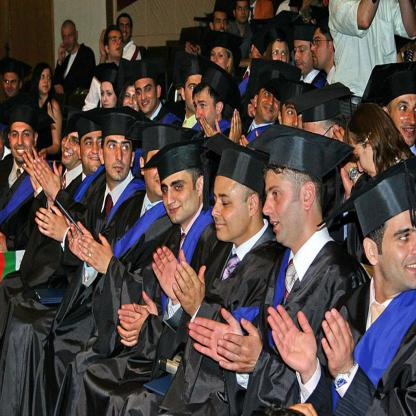face: (263, 164, 305, 243), (379, 209, 416, 291), (212, 175, 250, 240), (162, 166, 198, 224), (390, 85, 416, 147), (145, 148, 174, 198), (348, 132, 377, 181), (104, 135, 133, 181), (306, 119, 335, 165), (81, 127, 106, 173), (11, 121, 36, 162), (194, 87, 217, 131), (257, 87, 281, 122), (136, 77, 159, 113), (186, 74, 206, 113), (62, 124, 81, 165), (282, 104, 304, 139), (312, 28, 329, 69), (295, 40, 314, 76), (123, 83, 141, 114), (102, 82, 119, 109), (211, 46, 228, 73), (273, 41, 288, 68), (5, 72, 20, 97), (38, 68, 52, 94), (110, 30, 124, 56), (63, 28, 77, 51), (214, 13, 228, 34), (236, 2, 250, 23), (120, 18, 131, 42)
